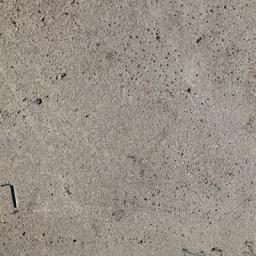FOD: (1, 182, 22, 212)
